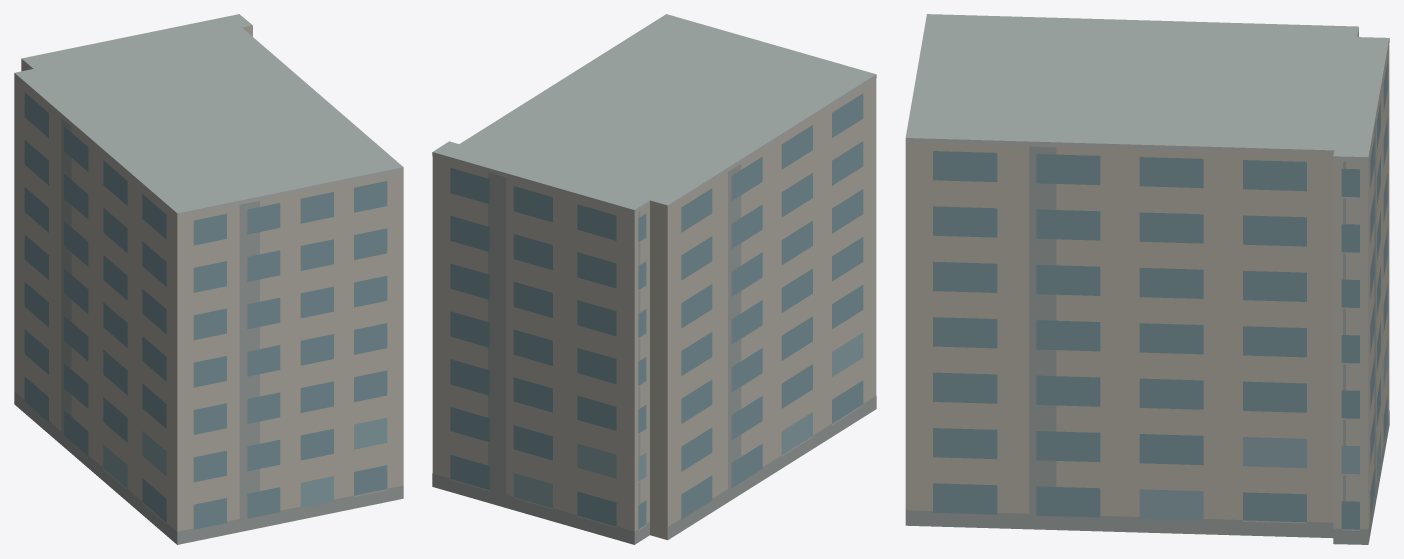
File: survey-upis-32871967.glb
The picture shows the model from 3 angles, left to right: view 1: azimuth 30°, elevation 25°; view 2: azimuth 150°, elevation 25°; view 3: azimuth 270°, elevation 25°; orthographic projection. The views are drawn at different scales.
Visible parts, largest first — view 1: survey-upis-32871967.tmp; view 2: survey-upis-32871967.tmp; view 3: survey-upis-32871967.tmp.
Part boxes in pixels (box(x1,y1,x2,y2)): survey-upis-32871967.tmp: box(14, 14, 403, 544); survey-upis-32871967.tmp: box(432, 14, 876, 544); survey-upis-32871967.tmp: box(905, 14, 1389, 544).
Size of the model in its own units: 14.89 by 18.8 by 21.27.
